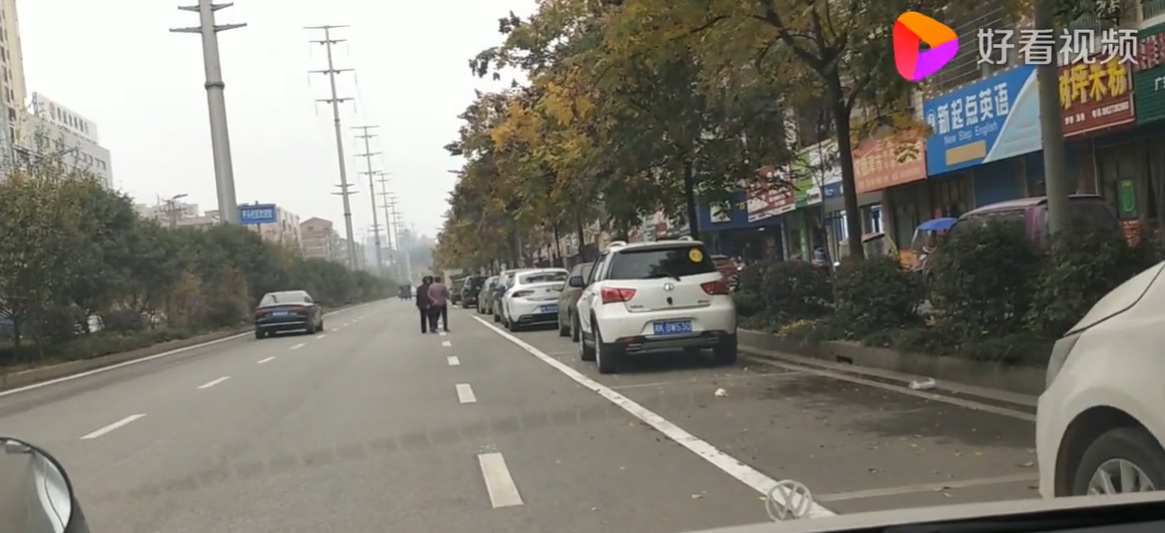slot_nocar: (589, 359, 1111, 511)
